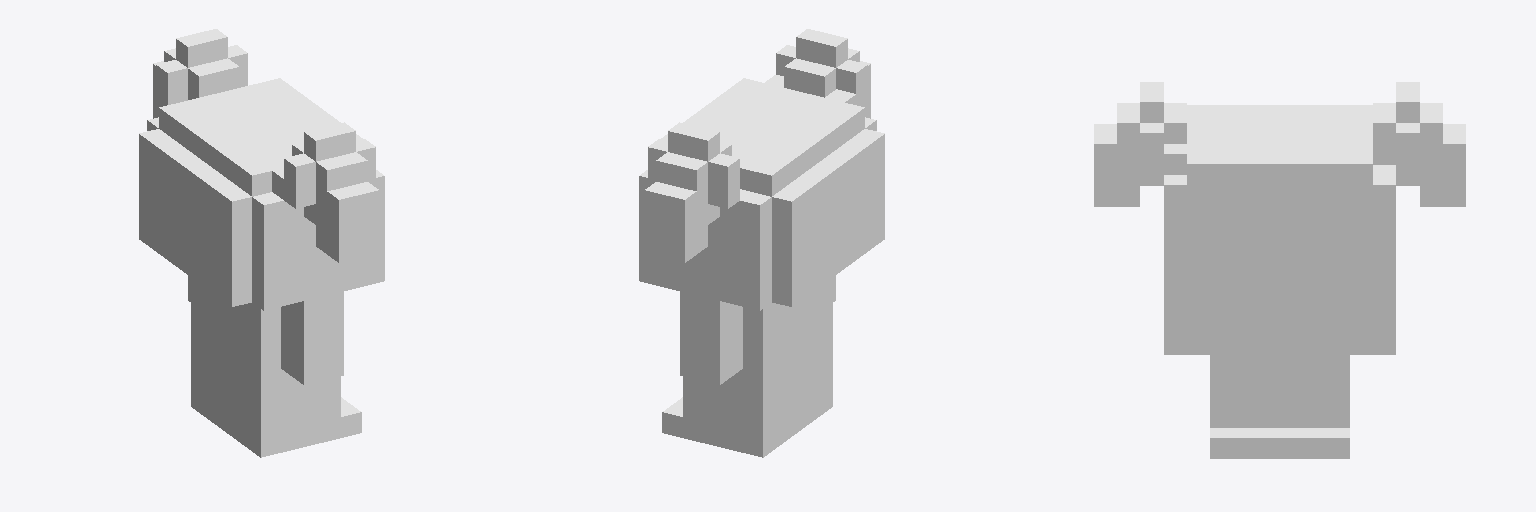
Rendered from Girl.obj.
The picture shows the model from 3 angles: view 1: azimuth 30°, elevation 25°; view 2: azimuth 150°, elevation 25°; view 3: azimuth 270°, elevation 25°; orthographic projection.
Size of the model in its own units: 7 by 16 by 16.